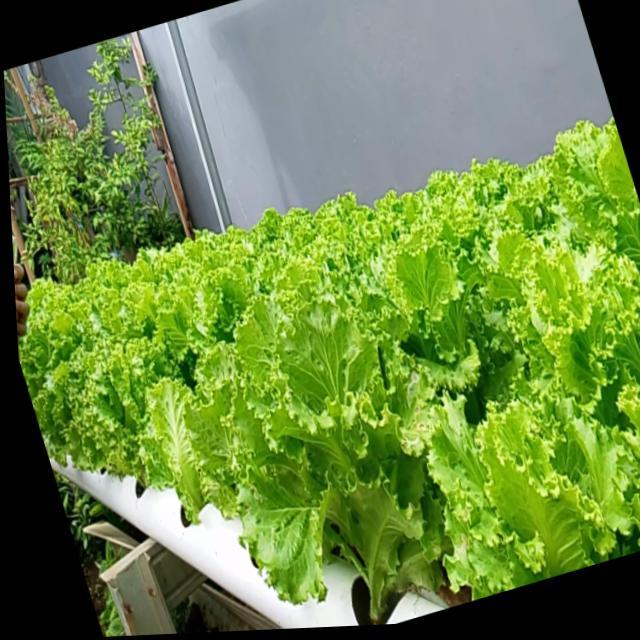Mature: (16, 120, 640, 625), (242, 316, 454, 619), (36, 304, 209, 512)
